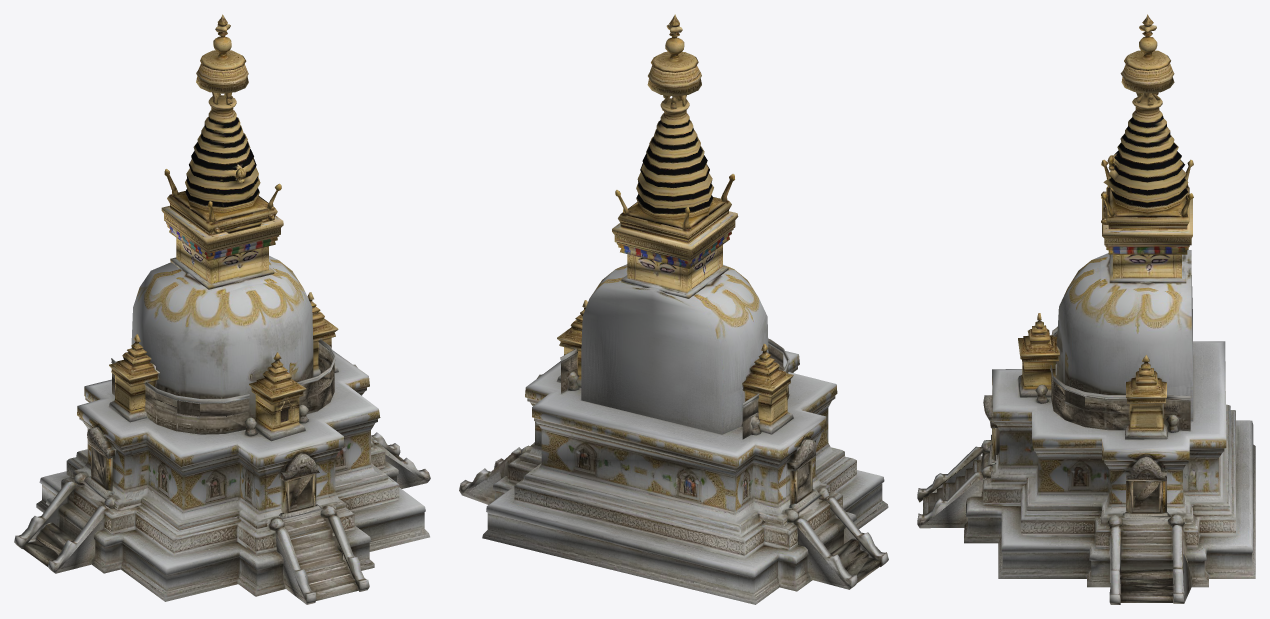
File: selected.glb
The picture shows the model from 3 angles, left to right: view 1: azimuth 30°, elevation 25°; view 2: azimuth 150°, elevation 25°; view 3: azimuth 270°, elevation 25°; orthographic projection. The views are drawn at different scales.
Parts seen in each view (by area): view 1: tripo_node_d71256d2-93f6-4d10-8856-3f7b49495bde; view 2: tripo_node_d71256d2-93f6-4d10-8856-3f7b49495bde; view 3: tripo_node_d71256d2-93f6-4d10-8856-3f7b49495bde.
Boxes of the visible parts, x1,y1,x2,y2 form: tripo_node_d71256d2-93f6-4d10-8856-3f7b49495bde: [14, 14, 430, 604]; tripo_node_d71256d2-93f6-4d10-8856-3f7b49495bde: [459, 14, 888, 604]; tripo_node_d71256d2-93f6-4d10-8856-3f7b49495bde: [917, 14, 1255, 604].
Size of the model in its own units: 0.7949 by 0.998 by 0.6113.
Materials: 1 (1 with a texture image).
